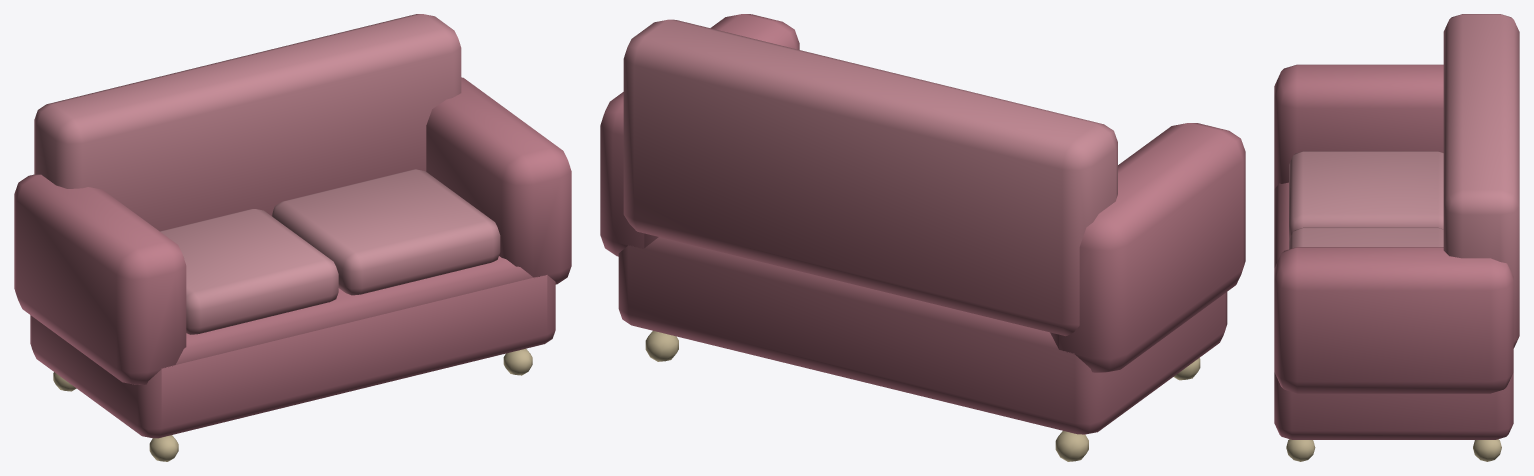
The model's file is sofa.glb.
3 views of the same model, side by side, from view 1: azimuth 30°, elevation 25°; view 2: azimuth 150°, elevation 25°; view 3: azimuth 270°, elevation 25° (orthographic). The views are drawn at different scales.
Visible parts, largest first — view 1: sofa; view 2: sofa; view 3: sofa.
Boxes of the visible parts, box(x1,y1,x2,y2) form: sofa: box(14, 14, 571, 461); sofa: box(600, 14, 1245, 461); sofa: box(1274, 14, 1519, 461).
Bounding box in the file's own units: 1.74 × 1.04 × 0.84.
